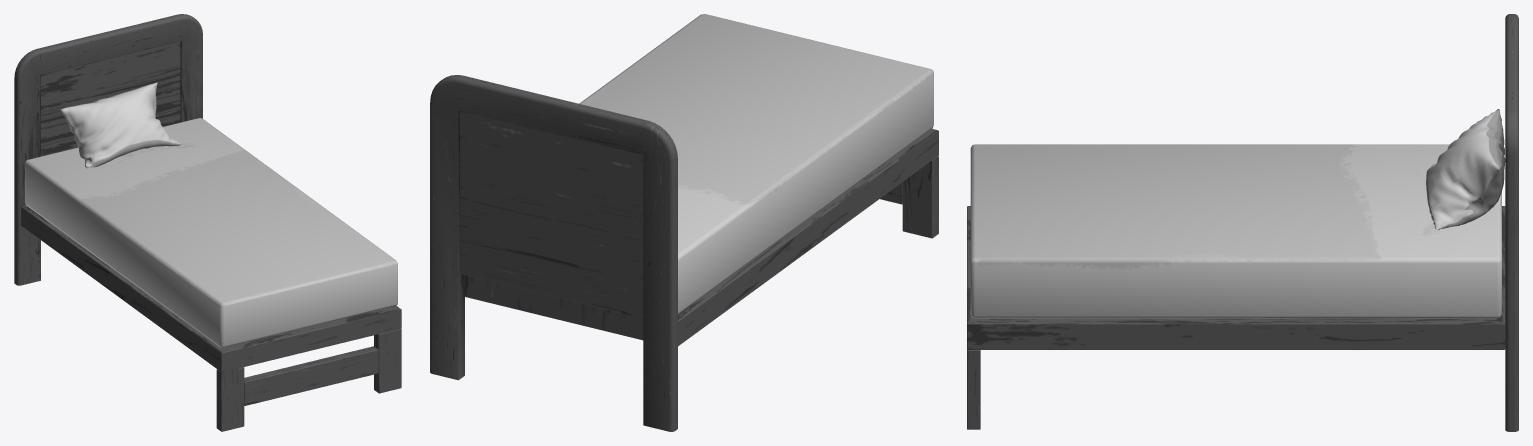
Rendered from bed.glb.
3 views of the same model, side by side, from view 1: azimuth 30°, elevation 25°; view 2: azimuth 150°, elevation 25°; view 3: azimuth 270°, elevation 25° (orthographic). The views are drawn at different scales.
Parts seen in each view (by area): view 1: ベッド布, ベッド枠, 枕; view 2: ベッド枠, ベッド布; view 3: ベッド布, ベッド枠, 枕.
Part boxes in pixels (<box>): ベッド布: <box>25,118,397,347</box>; ベッド枠: <box>14,14,401,431</box>; 枕: <box>60,82,181,168</box>; ベッド枠: <box>430,75,938,431</box>; ベッド布: <box>579,14,933,314</box>; ベッド布: <box>970,144,1501,318</box>; ベッド枠: <box>967,14,1518,431</box>; 枕: <box>1426,109,1505,229</box>.
Size of the model in its own units: 1.58 by 1.86 by 3.02.
3 materials, 3 textured.
